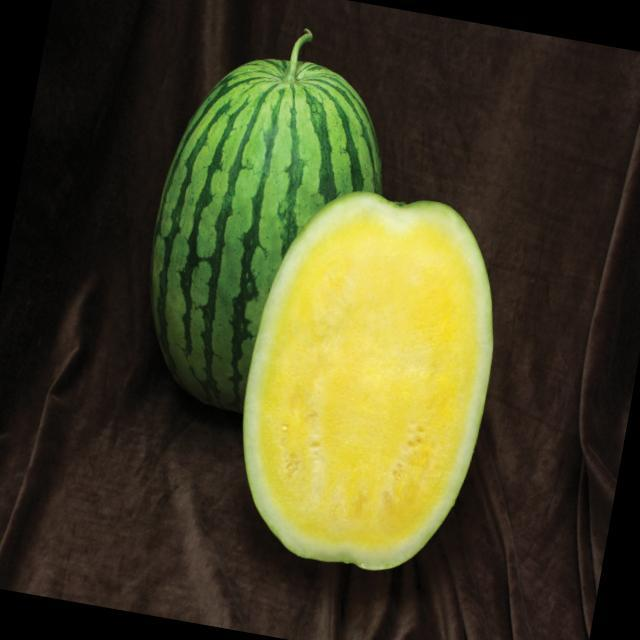WATERMELON: (217, 171, 521, 590), (132, 14, 410, 424)
